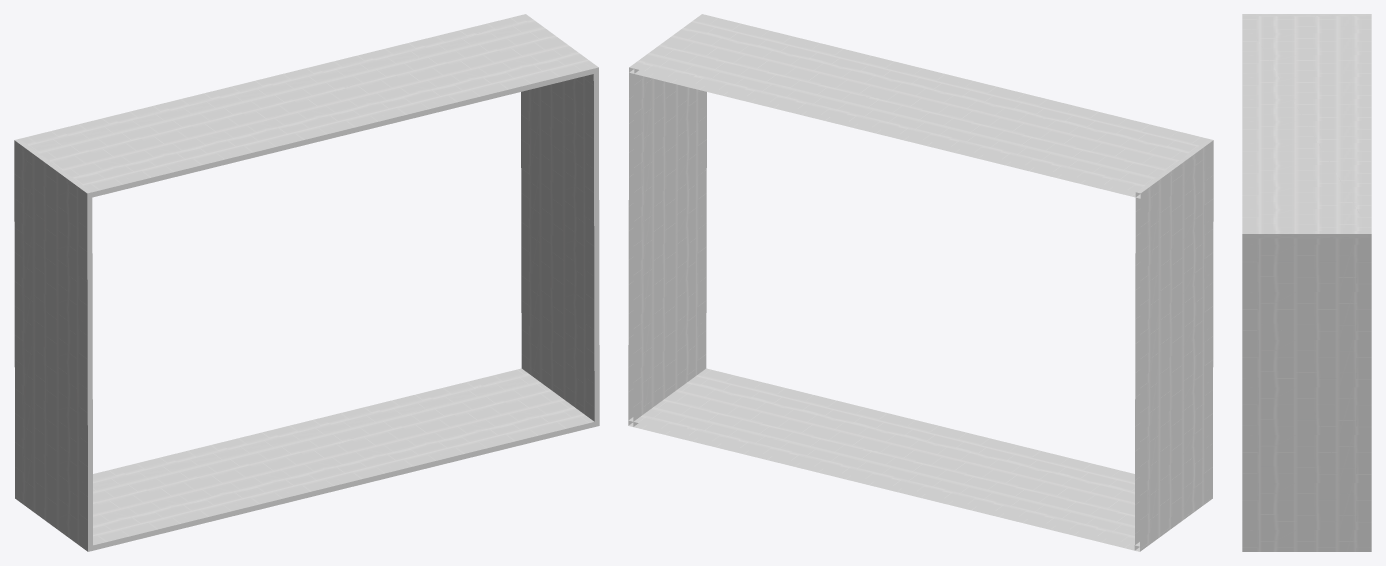
Rendered from wall_1.obj.
3 renders of one model, left to right at view 1: azimuth 30°, elevation 25°; view 2: azimuth 150°, elevation 25°; view 3: azimuth 270°, elevation 25°, orthographic. The views are drawn at different scales.
Parts seen in each view (by area): view 1: walls; view 2: walls; view 3: walls.
Part boxes in pixels (x1,y1,x2,y2): walls: (14, 14, 599, 551); walls: (628, 14, 1213, 551); walls: (1242, 14, 1371, 551).
Bounding box in the file's own units: 10.13 × 6.8 × 2.5.
